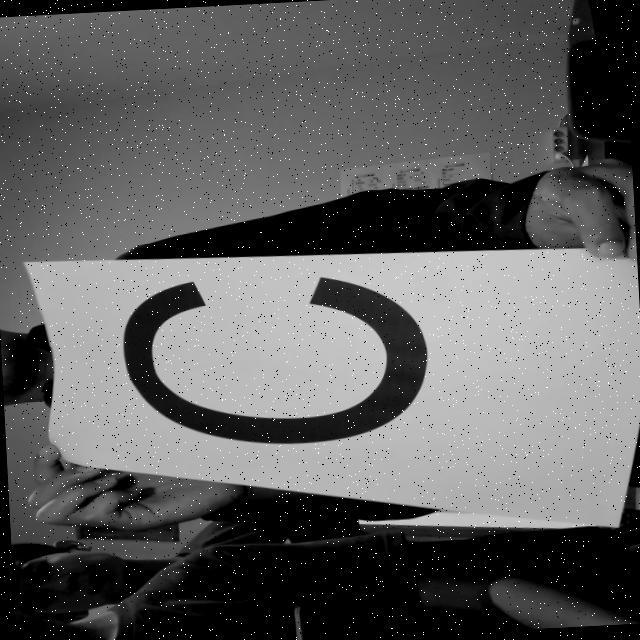c: (105, 259, 442, 462)
